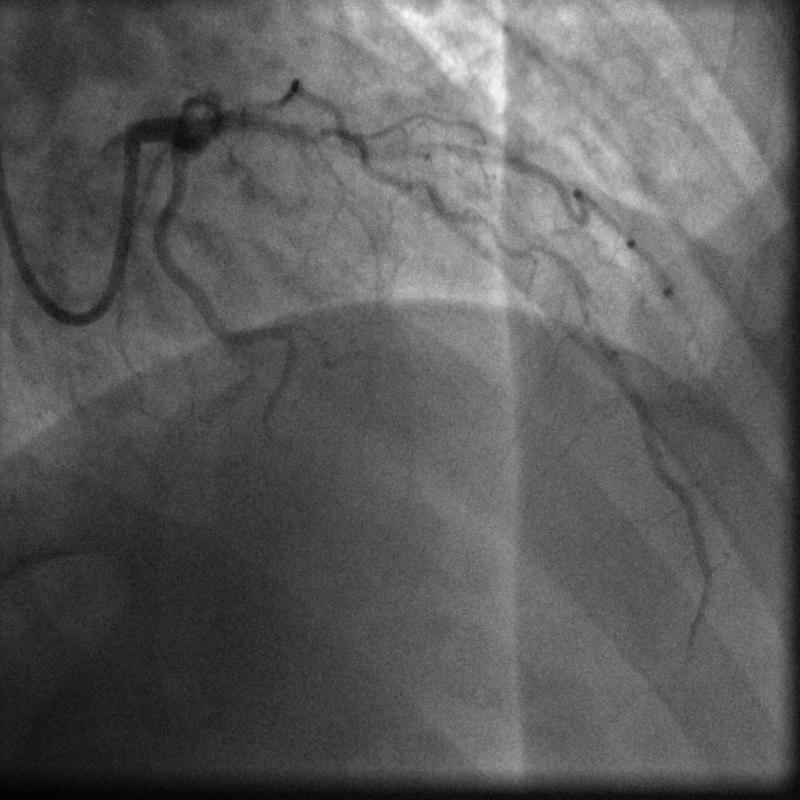Stenosis: (313, 129, 421, 156)
